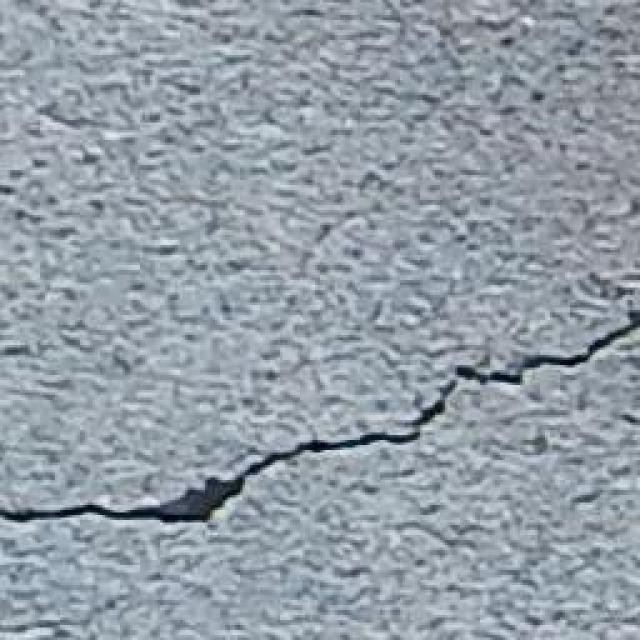concrete-crack: (1, 295, 640, 526)
